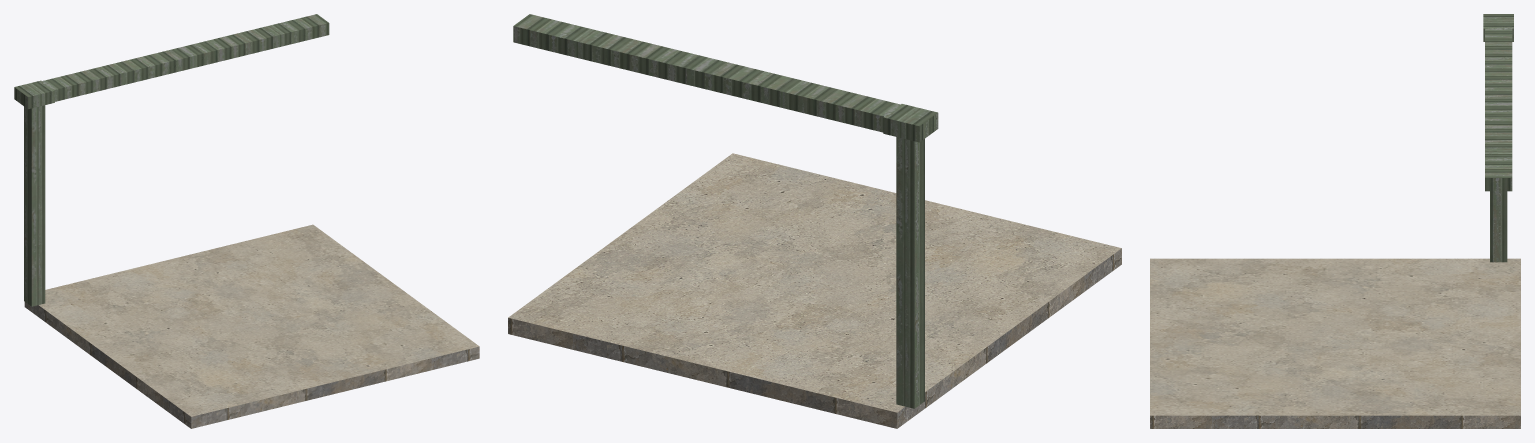
File: cyclone-canopy-bay.gltf
3 views of the same model, side by side, from view 1: azimuth 30°, elevation 25°; view 2: azimuth 150°, elevation 25°; view 3: azimuth 270°, elevation 25° (orthographic). The views are drawn at different scales.
Parts seen in each view (by area): view 1: floor-L0-plaster, structure-L0-metal, floor-L0-stone; view 2: floor-L0-plaster, structure-L0-metal, floor-L0-stone; view 3: floor-L0-plaster, structure-L0-metal, floor-L0-stone.
Part boxes in pixels (x1=…): floor-L0-plaster: x1=39, y1=224, x2=479, y2=416; structure-L0-metal: x1=14, y1=14, x2=329, y2=306; floor-L0-stone: x1=24, y1=302, x2=479, y2=428; floor-L0-plaster: x1=508, y1=153, x2=1121, y2=412; structure-L0-metal: x1=513, y1=14, x2=938, y2=408; floor-L0-stone: x1=508, y1=248, x2=1121, y2=428; floor-L0-plaster: x1=1150, y1=258, x2=1520, y2=415; structure-L0-metal: x1=1483, y1=14, x2=1513, y2=262; floor-L0-stone: x1=1150, y1=415, x2=1520, y2=428.
Size of the model in its own units: 3.14 by 2.24 by 3.
Materials: 3 (3 with a texture image).
